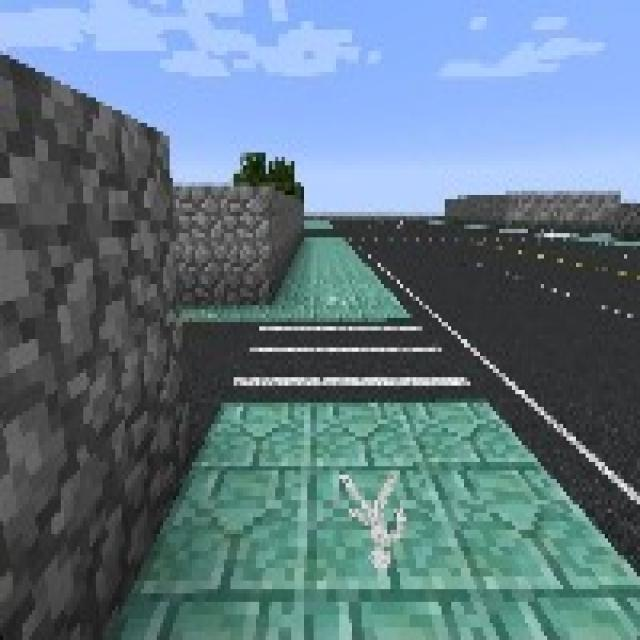crosswalk: (224, 316, 487, 401)
road: (356, 234, 637, 533), (190, 324, 243, 446), (304, 220, 330, 229)
sidewalk: (106, 403, 637, 636), (186, 237, 406, 318)
